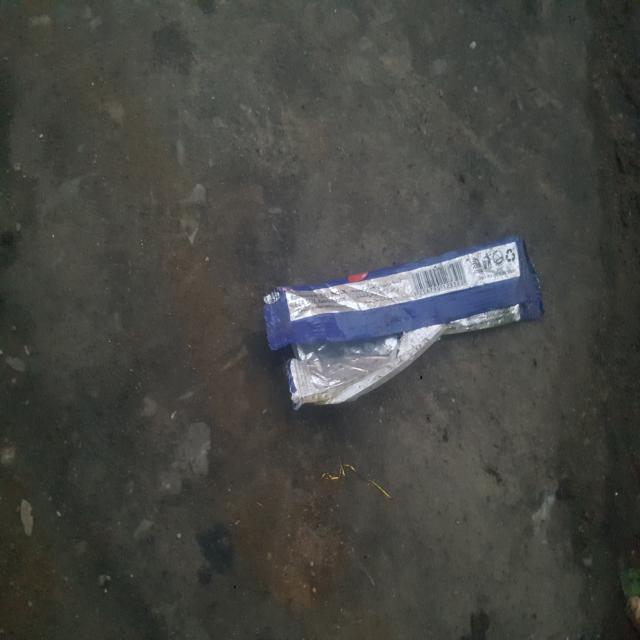electronic: (261, 232, 546, 418)
